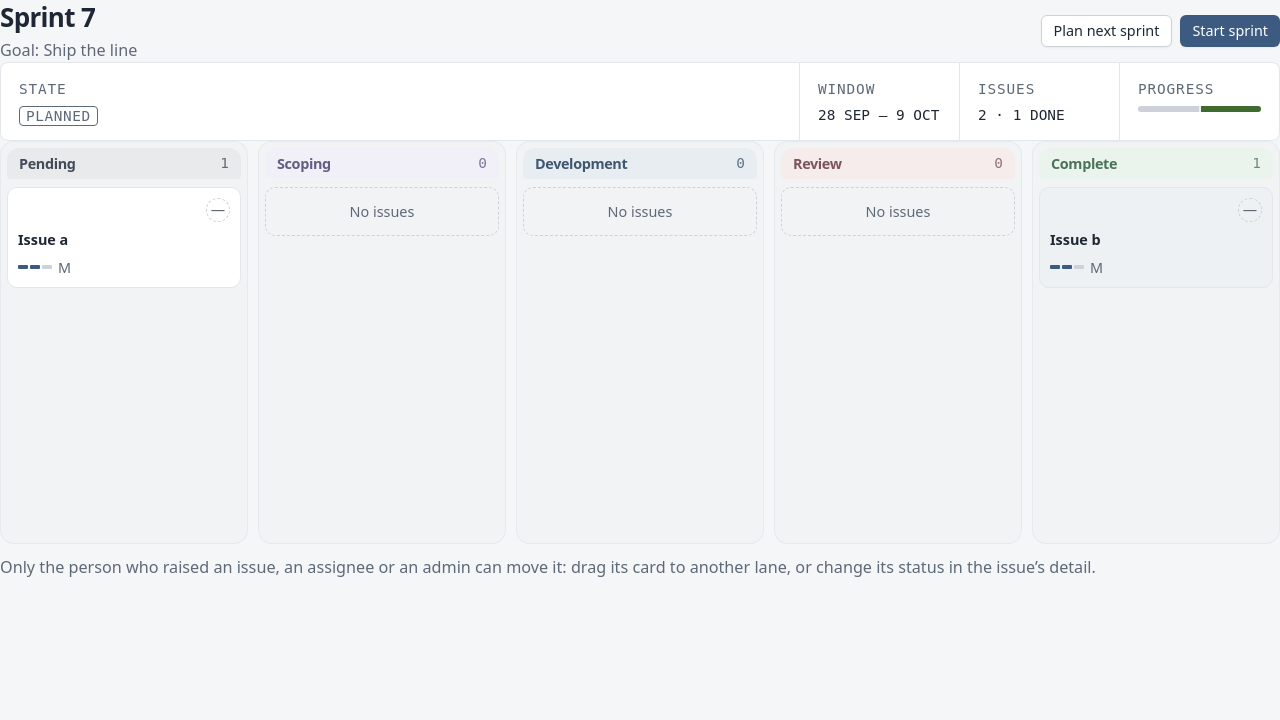
Test: Complete and Start sprint › asks before starting, naming the sprint and its issues
The image size is (1280, 720).
Click the button "Start sprint".
click(1230, 31)  # box [1180, 15, 1279, 47]
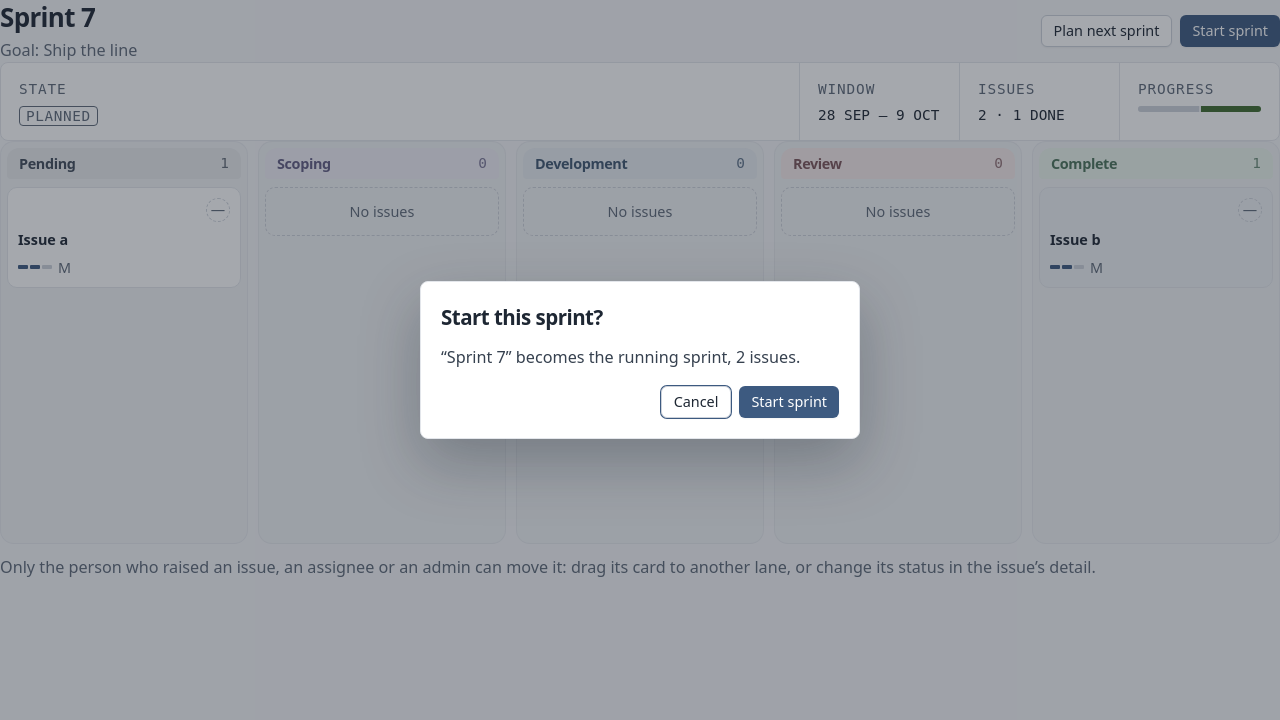
Expected: the dialog shows "“Sprint 7” becomes the running sprint, 2 issues.", [441, 346, 800, 368]
Click the button "Start sprint".
click(789, 402)  # box [740, 386, 839, 418]
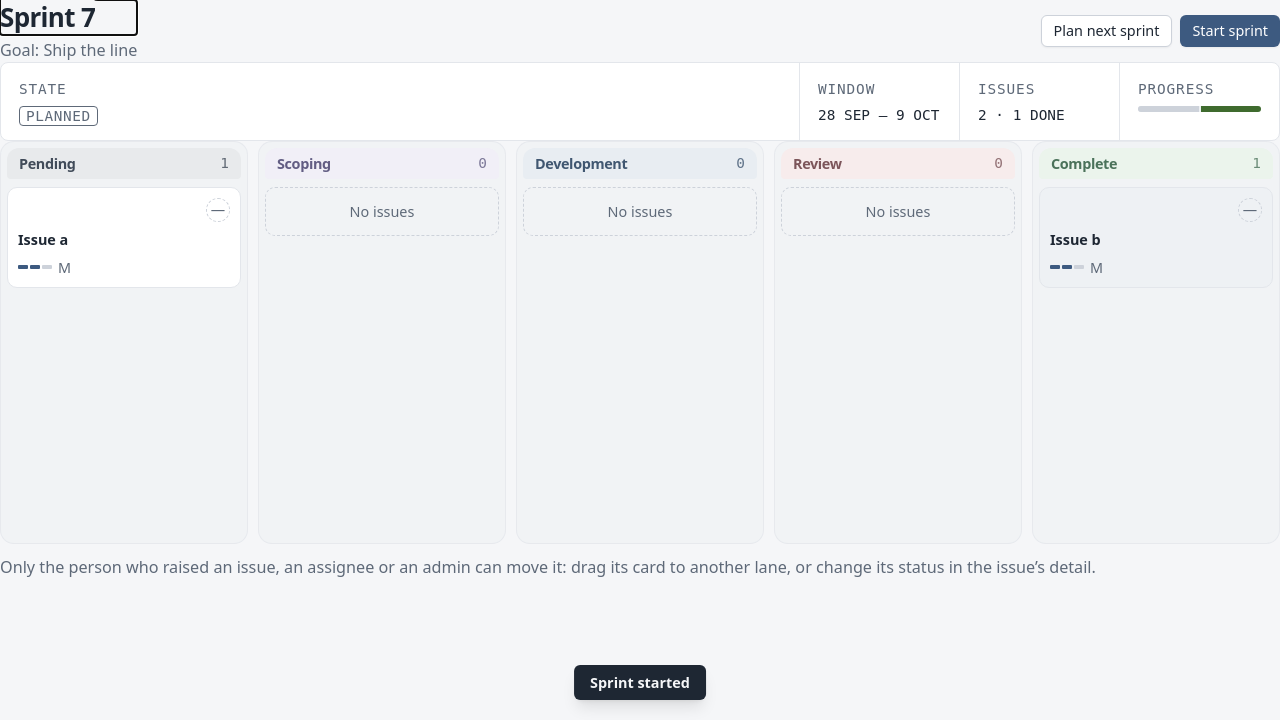
Expected: the text "Sprint started" is shown, [574, 665, 706, 700]
